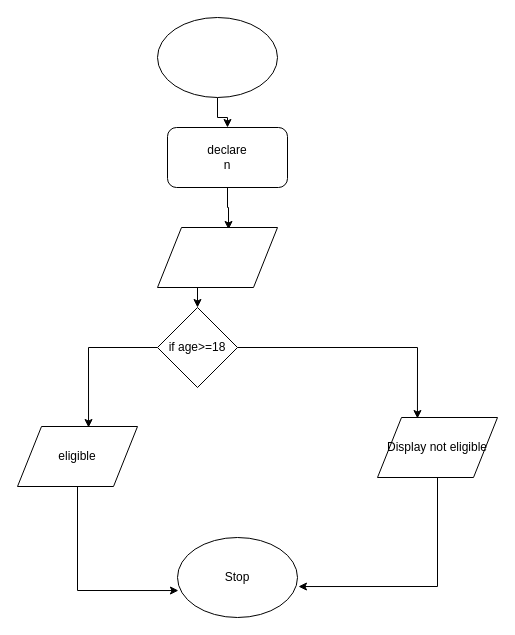
Image size: 515x635. Some labels were removed from this diagram. The shapes that lost their labels are listed below. From the top down, each one's centre as x and y in pixels, then its label:
point (217, 57): start
point (217, 257): read n
